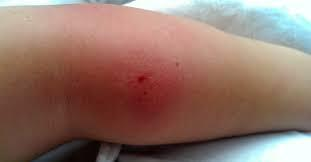Spider: (113, 49, 187, 121)
